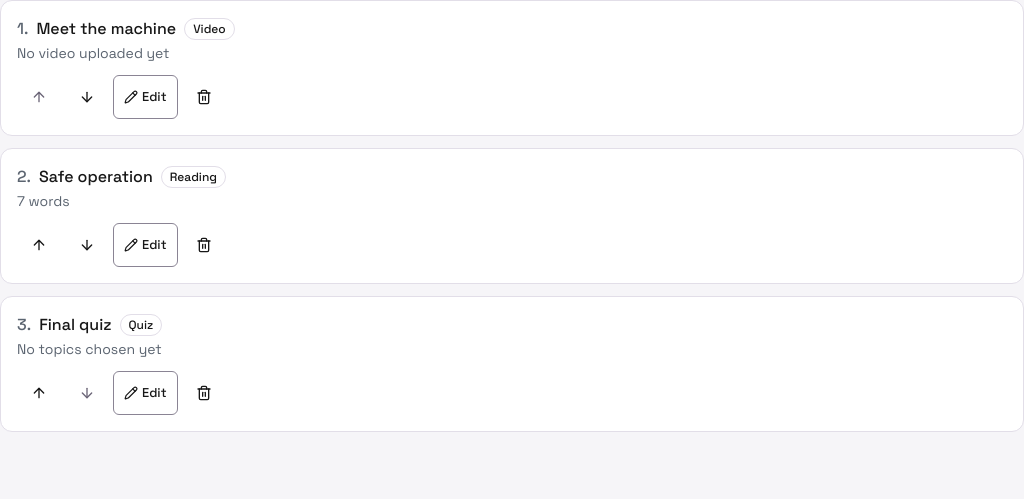
Test: StepList reordering › keeps the order and says so when the server refuses
Click the button named "Move step 2 down" at x=87, y=245, box left=65, top=223, right=109, bottom=267
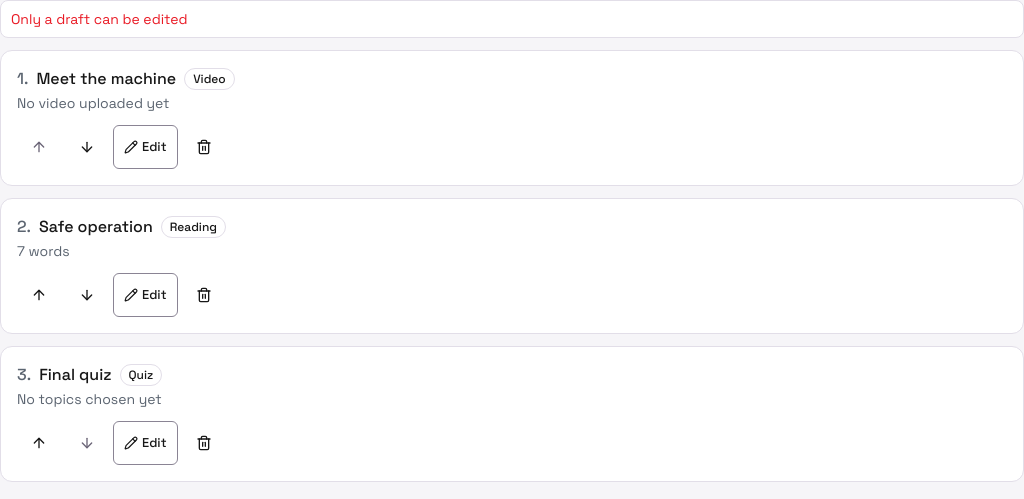
Expected: the text "Only a draft can be edited" is shown, left=11, top=10, right=188, bottom=28
